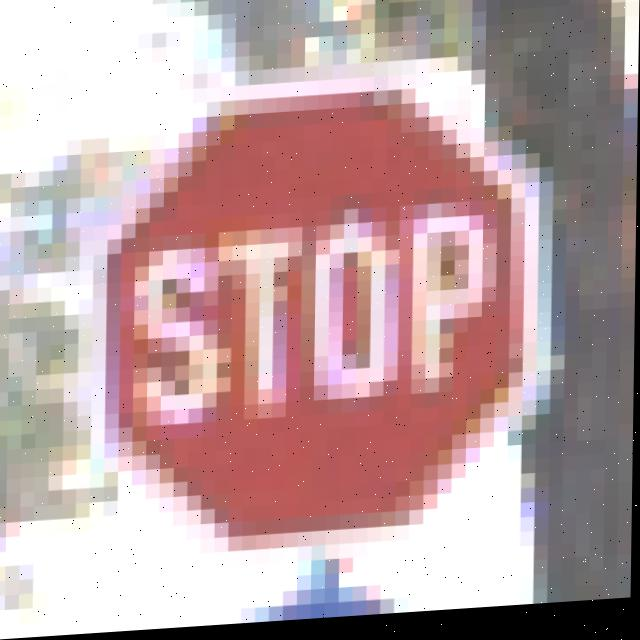stop: (104, 77, 527, 541)
